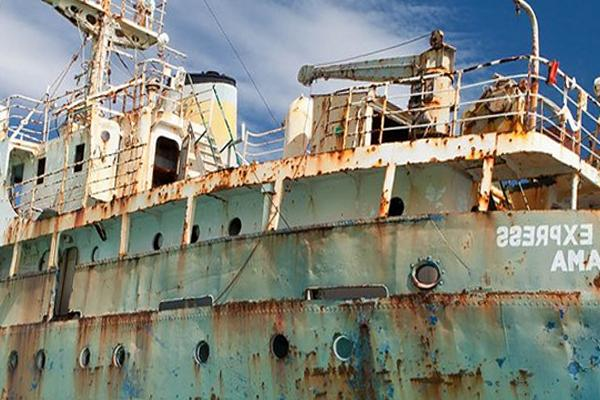rust: (387, 290, 578, 349), (206, 296, 310, 362), (77, 315, 157, 400), (453, 139, 519, 216), (1, 320, 55, 392), (306, 365, 408, 400), (81, 186, 180, 222), (178, 160, 267, 197), (285, 152, 391, 176), (6, 210, 66, 239), (376, 186, 404, 234)
